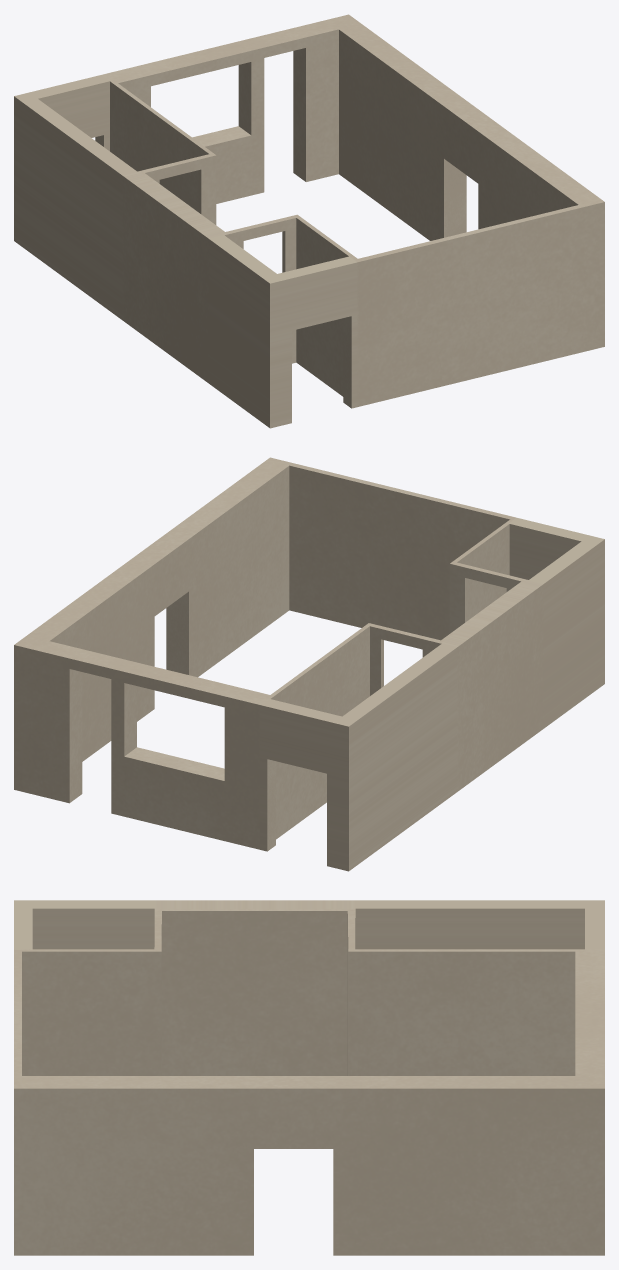
File: mirrorroom.fbx
The picture shows the model from 3 angles, top to bottom: view 1: azimuth 30°, elevation 25°; view 2: azimuth 150°, elevation 25°; view 3: azimuth 270°, elevation 25°; orthographic projection. The views are drawn at different scales.
Visible parts, largest first — view 1: room_livingroom_hall; view 2: room_livingroom_hall; view 3: room_livingroom_hall.
Part boxes in pixels (bbox=[...]): room_livingroom_hall: bbox=[14, 14, 604, 428]; room_livingroom_hall: bbox=[14, 457, 604, 871]; room_livingroom_hall: bbox=[14, 900, 604, 1255].
Size of the model in its own units: 8.47 by 3.5 by 11.22.
1 material, 1 textured.
